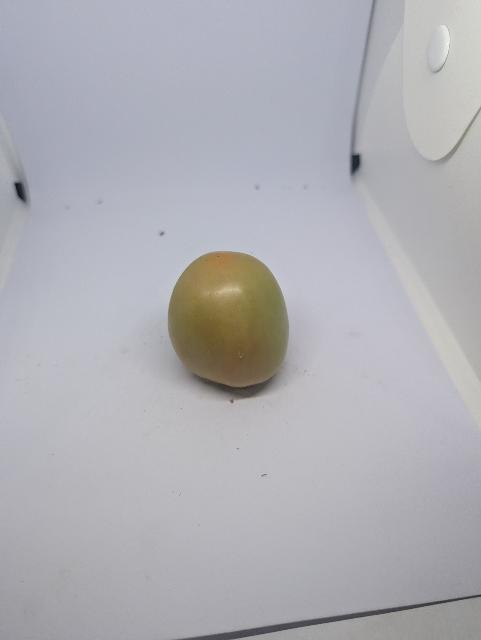breaker: (168, 251, 289, 387)
